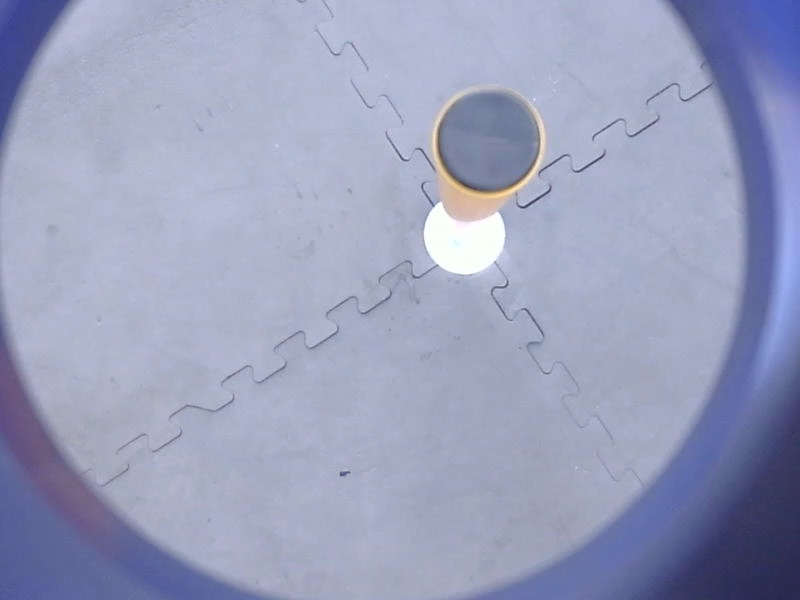tip: (426, 79, 554, 201)
